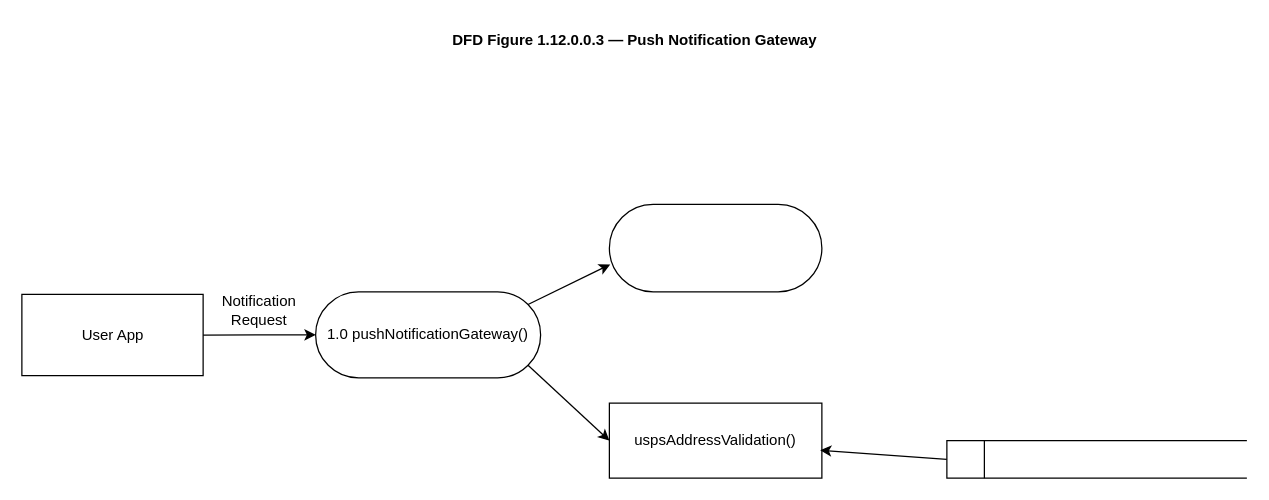
Image size: 1269x500. Some labels were removed from this diagram. The centre of each missing label's shape, as x and y in pixels:
autocompleteAPIAdapter(): pixel 715 247
D1 Offline Message Storage: pixel 1096 458
